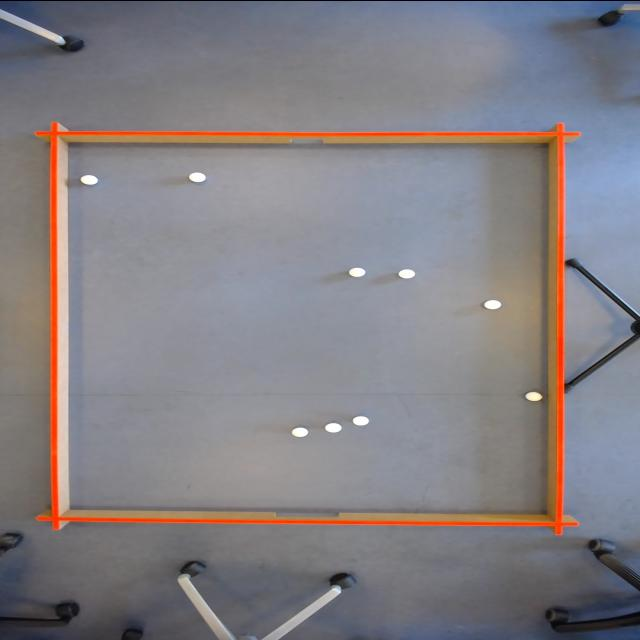white_ball: (480, 298, 506, 310), (76, 173, 100, 186), (321, 420, 345, 432), (396, 266, 418, 279), (522, 389, 544, 402), (187, 170, 210, 182), (348, 265, 370, 277), (290, 425, 310, 437), (352, 414, 372, 426)
